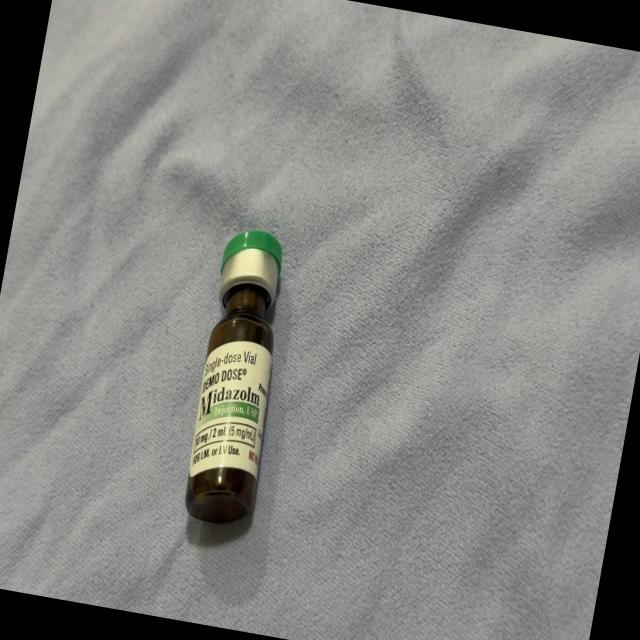midazolm: (178, 230, 299, 524)
